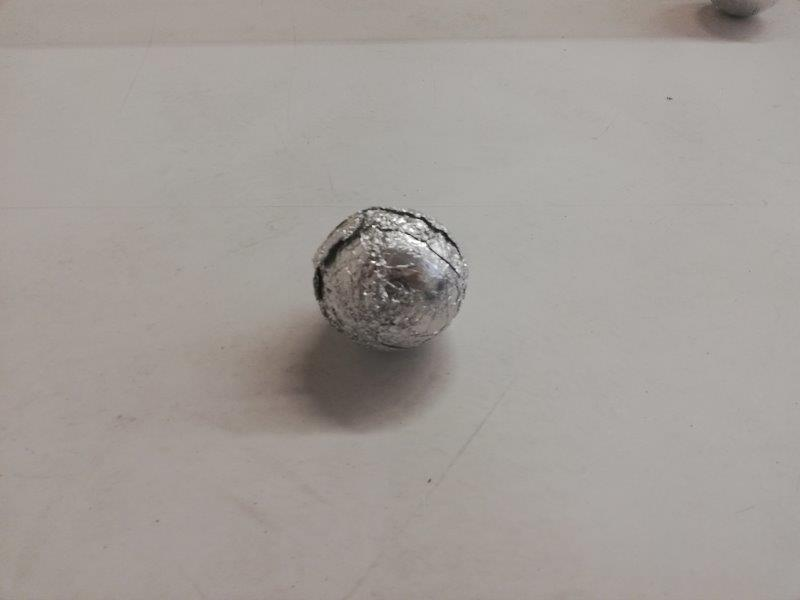bianca: (313, 203, 469, 354)
